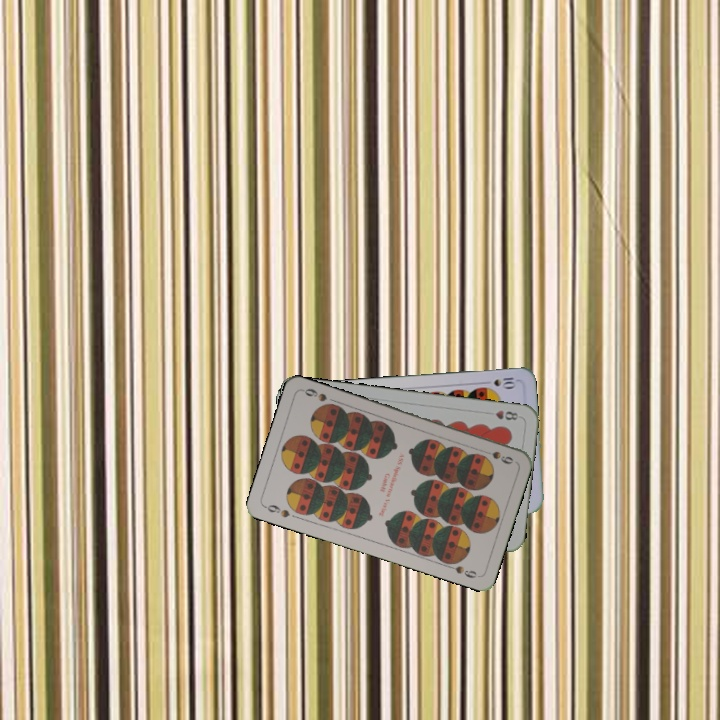H8: (492, 406, 520, 423)
S10: (490, 373, 519, 390)
S9: (477, 446, 516, 467), (261, 500, 292, 520)
